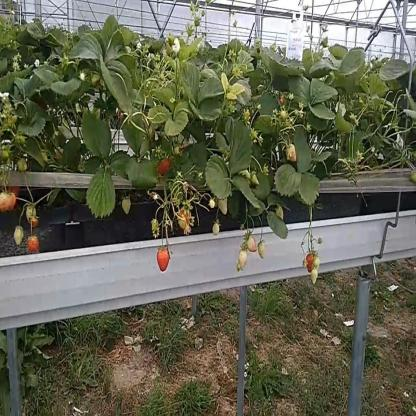ripe: (158, 247, 169, 270), (28, 238, 40, 253), (307, 253, 315, 273), (30, 214, 38, 226)
unripe: (154, 155, 173, 180), (236, 250, 247, 271), (249, 173, 261, 190), (286, 146, 298, 162), (121, 198, 133, 214), (13, 226, 22, 246), (408, 166, 416, 188), (278, 109, 288, 126), (7, 192, 16, 210), (0, 192, 7, 214), (258, 240, 266, 259), (246, 238, 255, 254), (18, 157, 28, 169), (212, 222, 220, 236), (178, 216, 186, 230), (311, 269, 317, 285), (277, 206, 284, 219), (314, 257, 320, 271), (151, 219, 158, 230), (210, 200, 215, 210)
